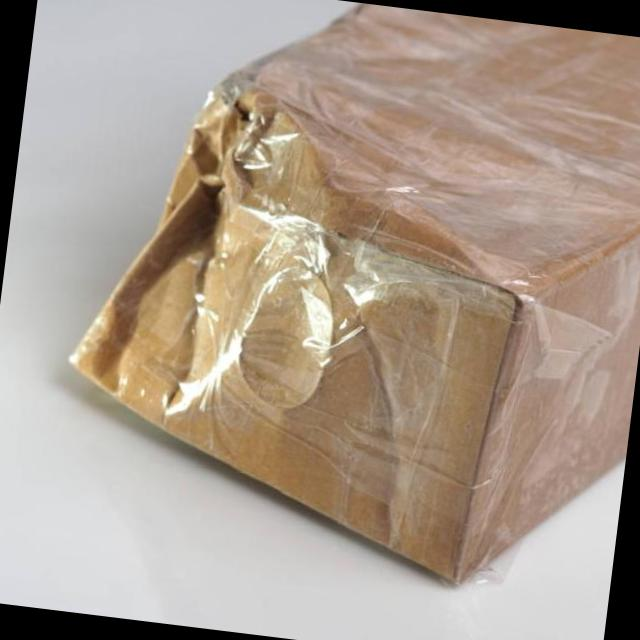box: (58, 33, 625, 568)
